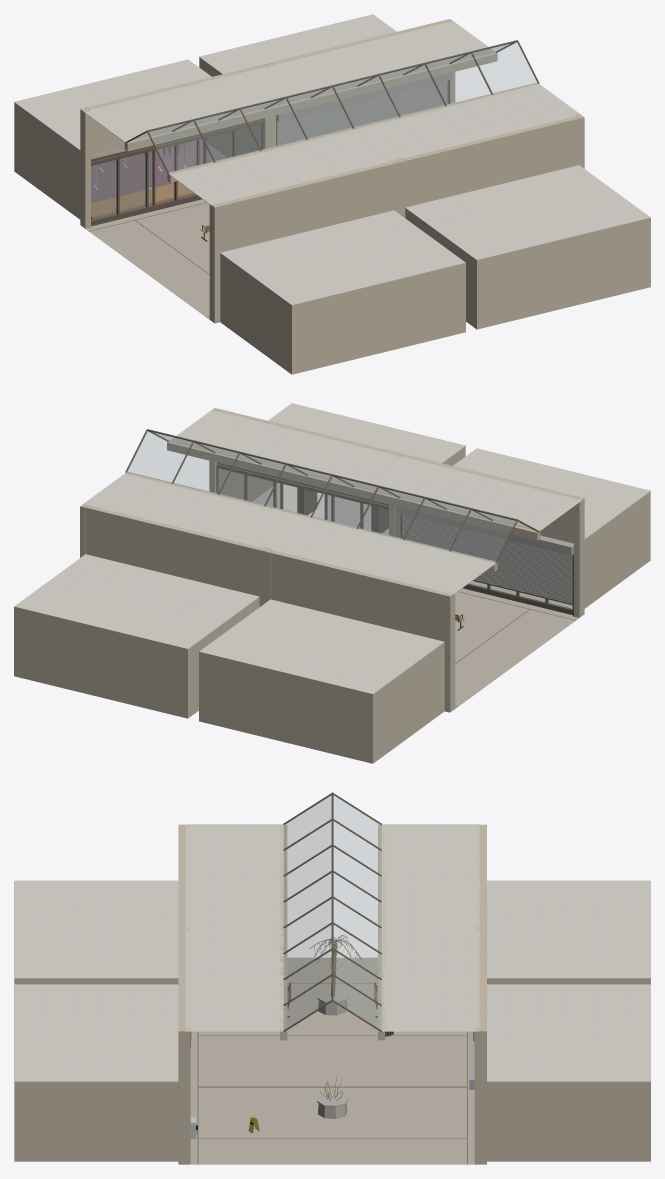
The model's file is concourse_a.glb.
3 renders of one model, top to bottom at view 1: azimuth 30°, elevation 25°; view 2: azimuth 150°, elevation 25°; view 3: azimuth 270°, elevation 25°, orthographic. The views are drawn at different scales.
Visible parts, largest first — view 1: concourse_a; view 2: concourse_a; view 3: concourse_a.
Part boxes in pixels (x1=…): concourse_a: x1=14, y1=14, x2=650, y2=374; concourse_a: x1=14, y1=403, x2=650, y2=763; concourse_a: x1=14, y1=792, x2=650, y2=1164.
Size of what is drawn, in the model's own units: 20.07 by 7.45 by 26.01.
